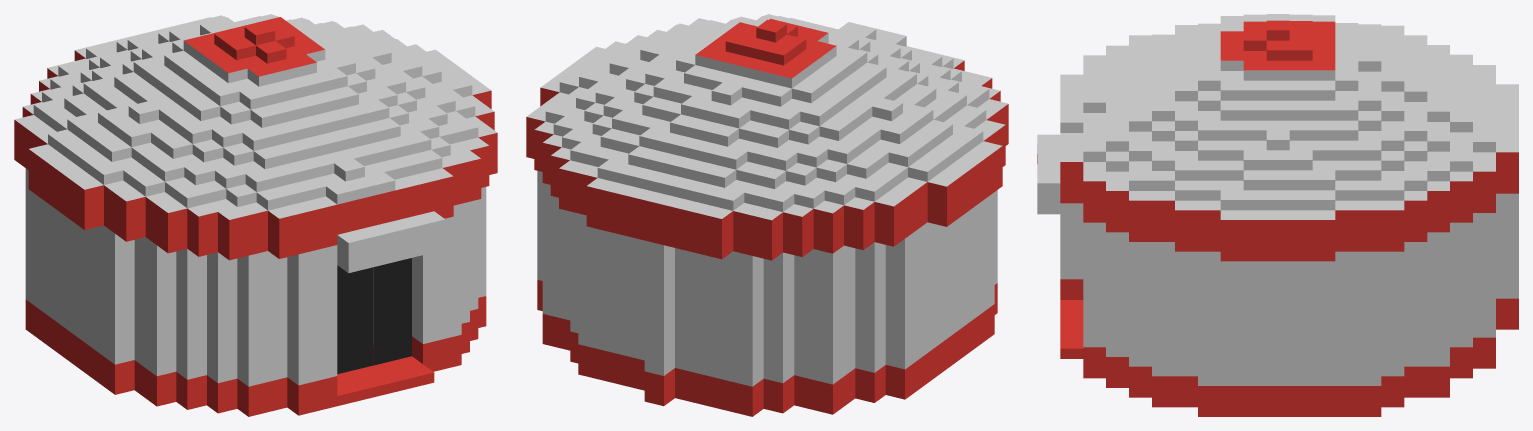
File: Помнящие1.fbx
3 views of the same model, side by side, from view 1: azimuth 30°, elevation 25°; view 2: azimuth 150°, elevation 25°; view 3: azimuth 270°, elevation 25° (orthographic). The views are drawn at different scales.
Parts seen in each view (by area): view 1: Cylinder; view 2: Cylinder; view 3: Cylinder.
Boxes of the visible parts, box(x1,y1,x2,y2) form: Cylinder: box(14, 14, 497, 416); Cylinder: box(526, 14, 1008, 416); Cylinder: box(1037, 14, 1518, 416).
Size of the model in its own units: 433 by 297 by 433.
